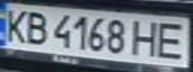1: (69, 13, 90, 51)
4: (48, 11, 72, 48)
6: (87, 15, 109, 53)
8: (106, 16, 130, 55)
B: (21, 9, 51, 46)
E: (151, 19, 190, 61)
H: (127, 17, 163, 57)
K: (0, 7, 30, 44)
